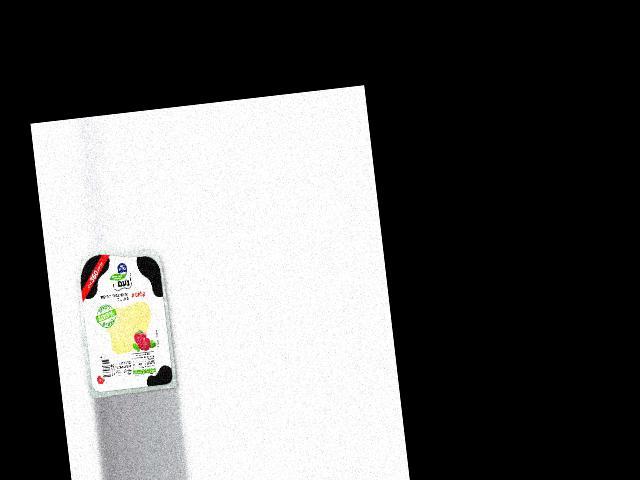cheese: (73, 242, 177, 398)
